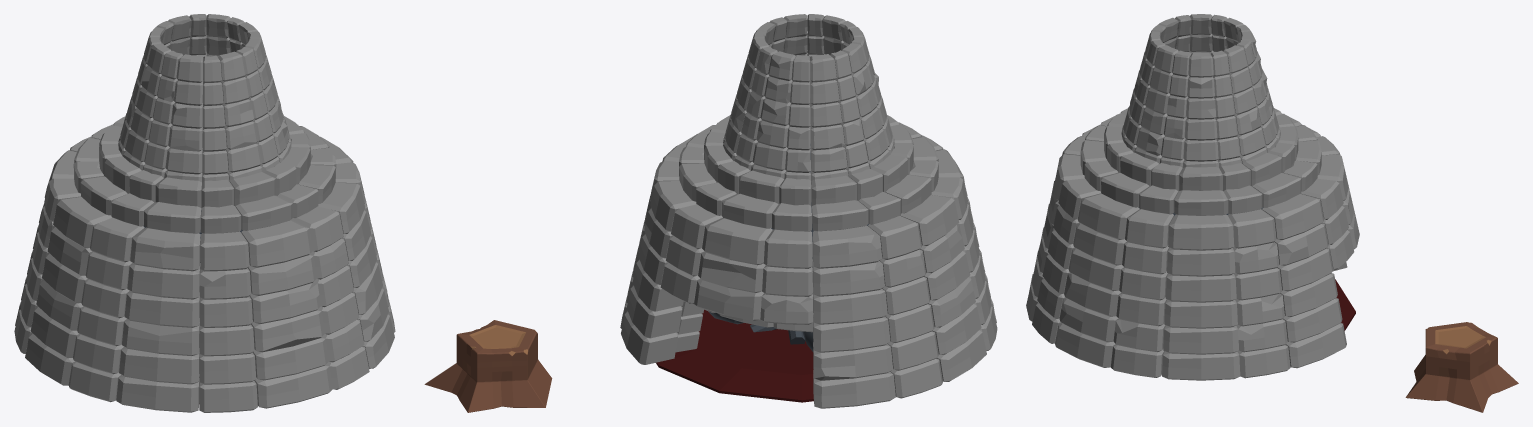
File: Forge.fbx
The picture shows the model from 3 angles, left to right: view 1: azimuth 30°, elevation 25°; view 2: azimuth 150°, elevation 25°; view 3: azimuth 270°, elevation 25°; orthographic projection. The views are drawn at different scales.
Parts seen in each view (by area): view 1: Forge\; view 2: Forge\, stompFurge; view 3: Forge\, stompFurge.
Boxes of the visible parts, left/top/right/bottom form: Forge\: left=14, top=14, right=395, bottom=412; Forge\: left=620, top=14, right=997, bottom=408; stompFurge: left=424, top=320, right=552, bottom=412; Forge\: left=1026, top=14, right=1359, bottom=380; stompFurge: left=1405, top=322, right=1518, bottom=412.
Bounding box in the file's own units: 764 × 549 × 887.
